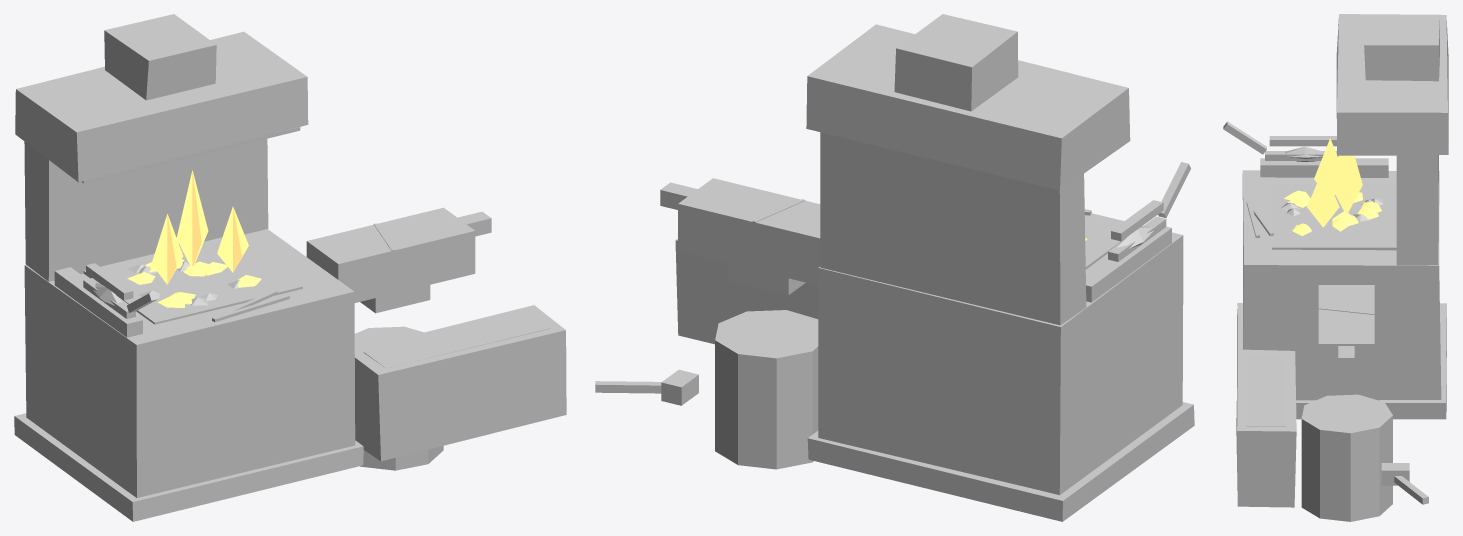
The model's file is building.set_cold_forge.glb.
3 views of the same model, side by side, from view 1: azimuth 30°, elevation 25°; view 2: azimuth 150°, elevation 25°; view 3: azimuth 270°, elevation 25° (orthographic). The views are drawn at different scales.
Parts seen in each view (by area): view 1: building.set_cold_forge, fire; view 2: building.set_cold_forge; view 3: building.set_cold_forge, fire.
Boxes of the visible parts, x1,y1,x2,y2 form: building.set_cold_forge: (14,14,566,521); fire: (127,170,261,307); building.set_cold_forge: (595,14,1194,521); building.set_cold_forge: (1223,14,1448,521); fire: (1284,138,1381,235).
Size of the model in its own units: 1.91 by 1.83 by 0.9665.
